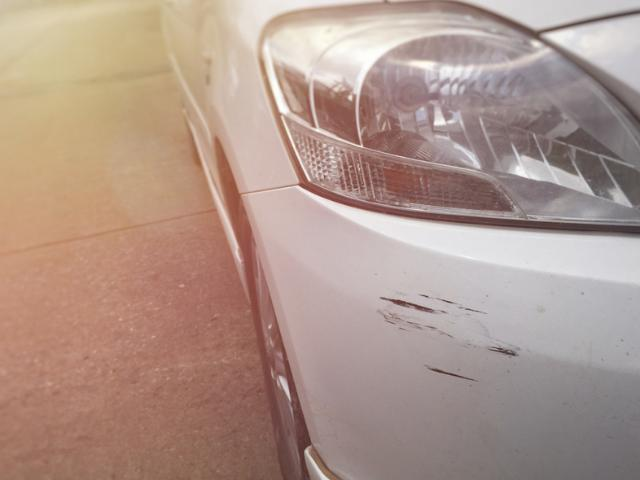Bumper: (258, 185, 640, 480)
